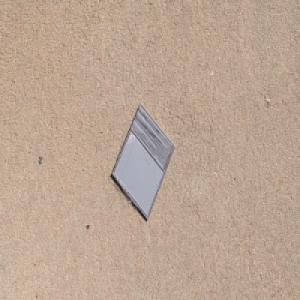PlasticPart: (109, 100, 176, 222)
